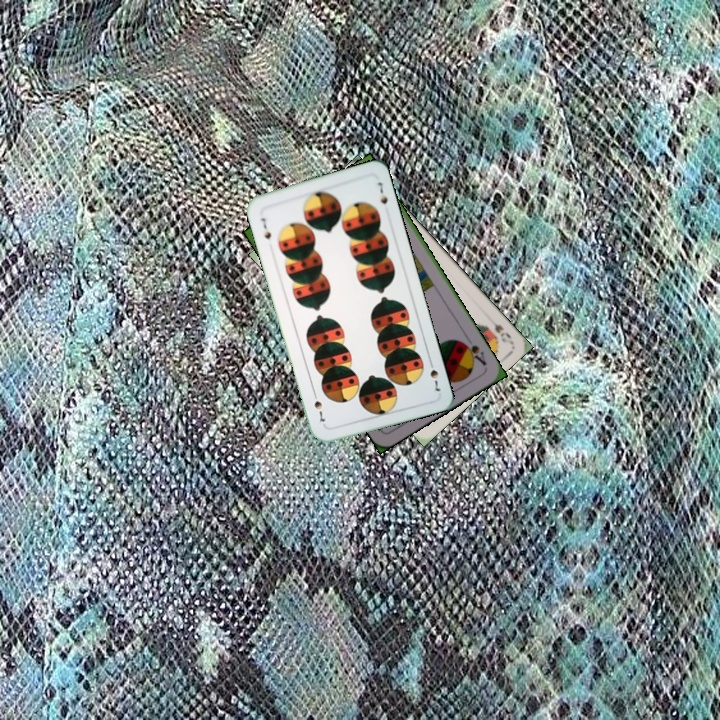S7: (425, 355, 443, 394), (257, 214, 274, 242)
SA: (457, 337, 489, 368)
SO: (490, 320, 514, 346)
